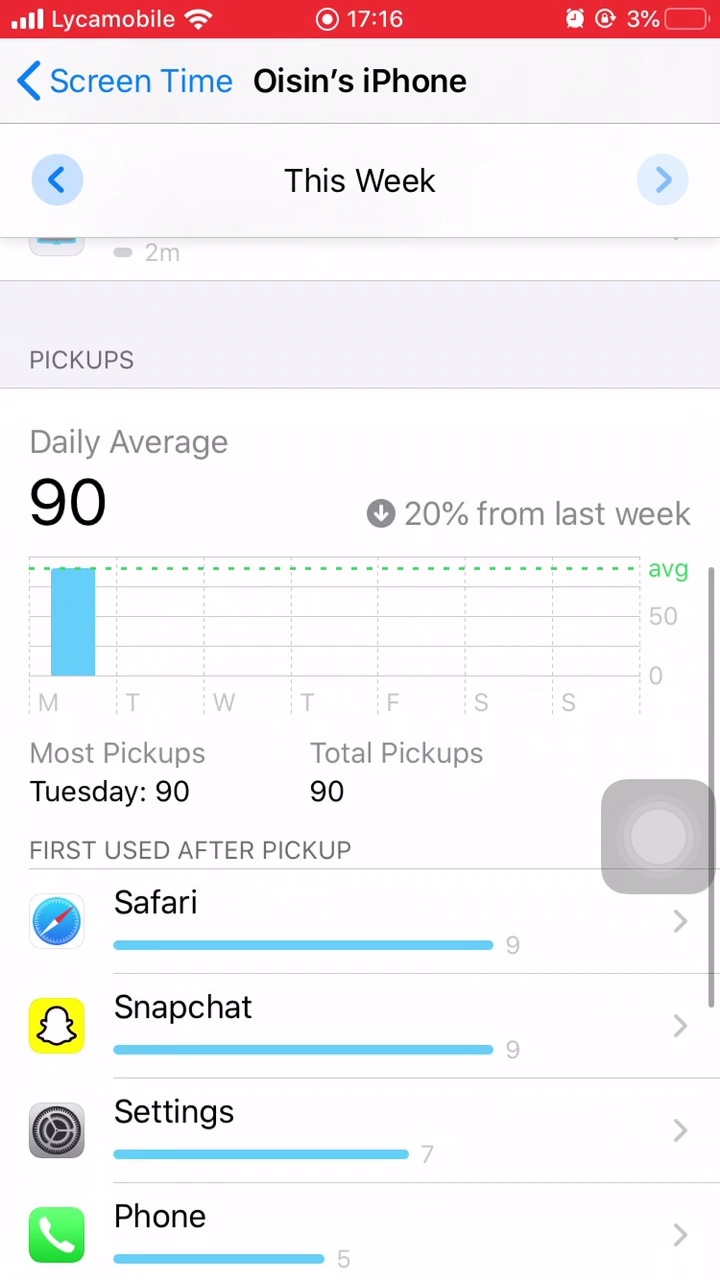pick_app: (25, 882, 575, 971), (23, 988, 584, 1074), (21, 1096, 484, 1167), (17, 1192, 392, 1272)
pick_over: (26, 728, 542, 828)
week: (266, 154, 448, 209)
